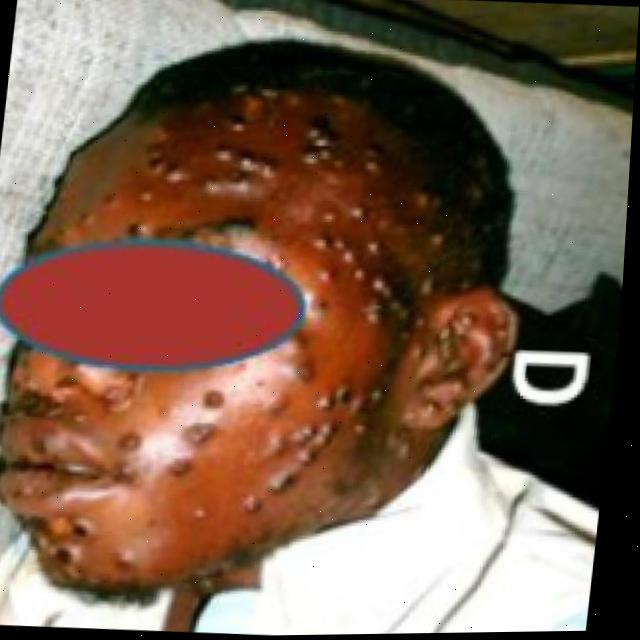Eczema: (107, 118, 439, 543)
